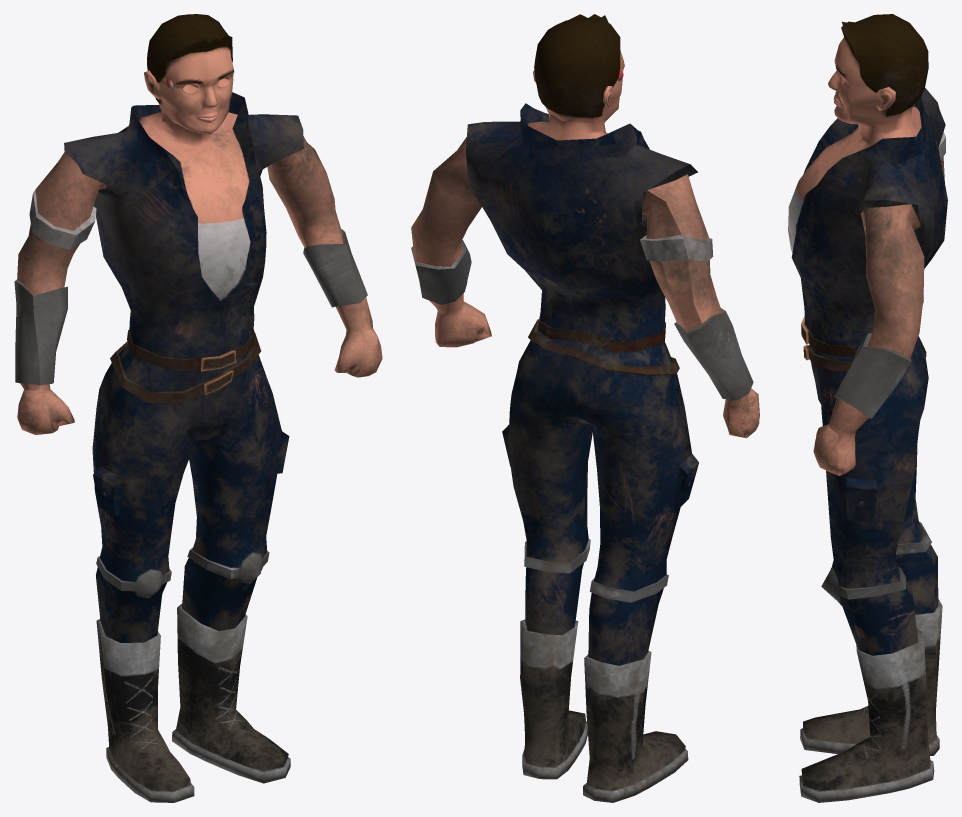
File: Anim_interruptor_jugador.0014.obj
The picture shows the model from 3 angles, left to right: view 1: azimuth 30°, elevation 25°; view 2: azimuth 150°, elevation 25°; view 3: azimuth 270°, elevation 25°; orthographic projection.
Visible parts, largest first — view 1: polySurface1; view 2: polySurface1; view 3: polySurface1.
Boxes of the visible parts, x1,y1,x2,y2 form: polySurface1: [14, 14, 382, 802]; polySurface1: [411, 14, 759, 802]; polySurface1: [788, 14, 947, 802].
Bounding box in the file's own units: 4.61 × 9.63 × 1.86.
